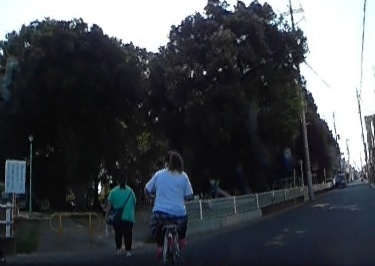person: (147, 147, 188, 255), (107, 172, 136, 256)
